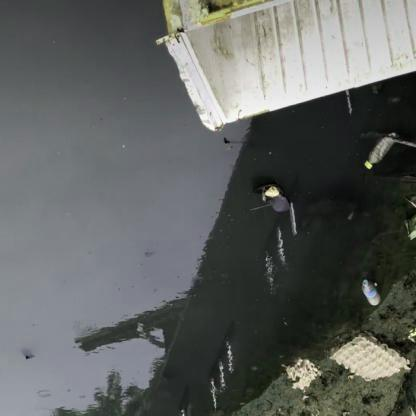Plastic: (359, 128, 398, 172), (360, 278, 381, 310)
Trash: (326, 329, 414, 385)
